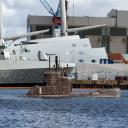submarine: (18, 56, 125, 99)
